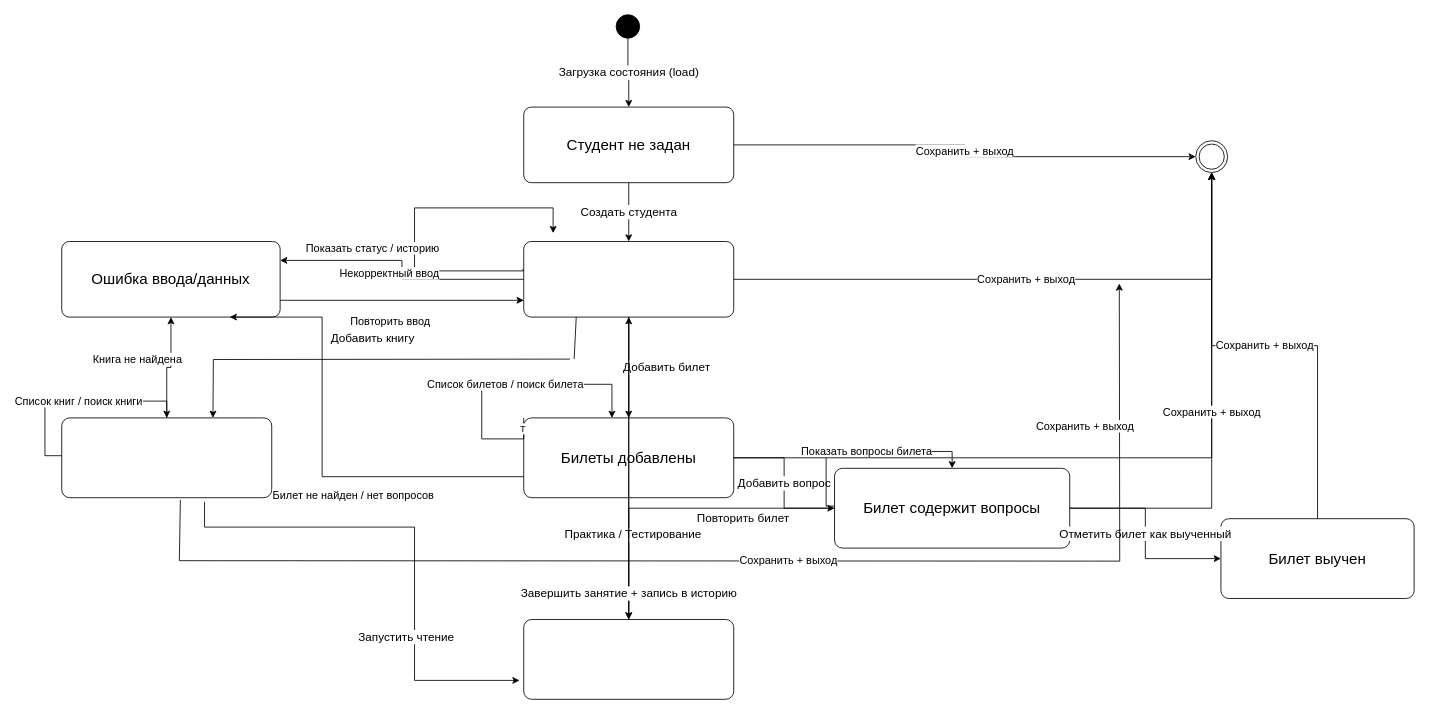
Image size: 1429x714. Some labels were removed from this diagram. The shapes that lost their labels are listed below. From the top down, each one's centre as x and y in pixels, then its label:
point 628,279: Студент создан
point 166,457: Книги добавлены
point 628,659: Учебная сессия
